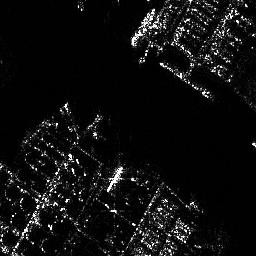ship: (131, 5, 155, 45)
